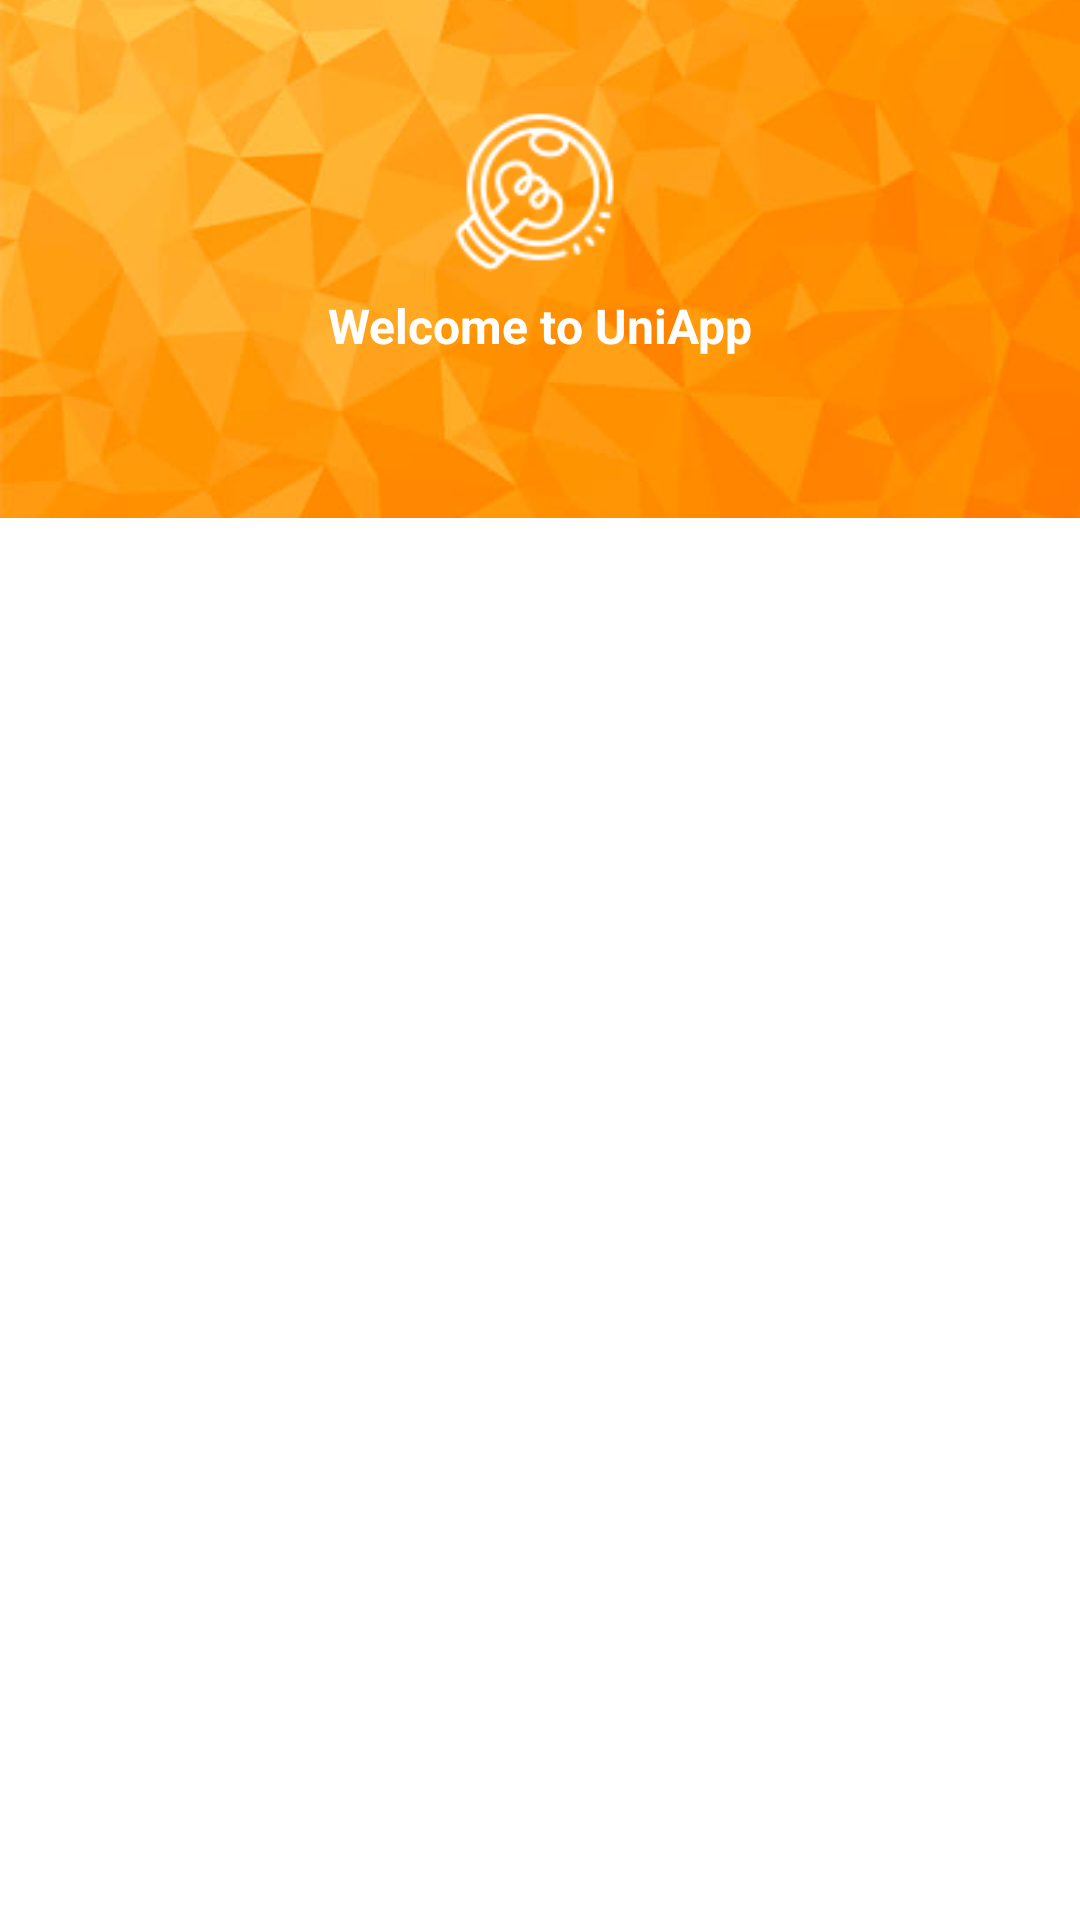

Icons on this 1080w x 1920h Android screen, each with its box as {"left": x1, "top": y1, "right": x2, "bottom": y2}:
lightbulb oneshot: {"left": 450, "top": 97, "right": 630, "bottom": 277}
